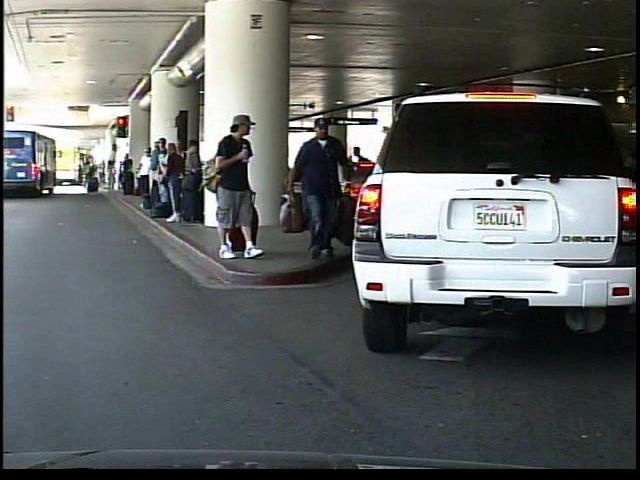person: (292, 106, 360, 263), (212, 111, 269, 262)
